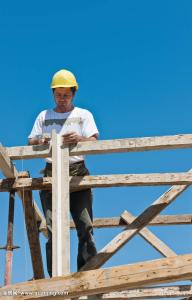hard-hat: (49, 69, 77, 91)
person: (27, 68, 99, 277)
